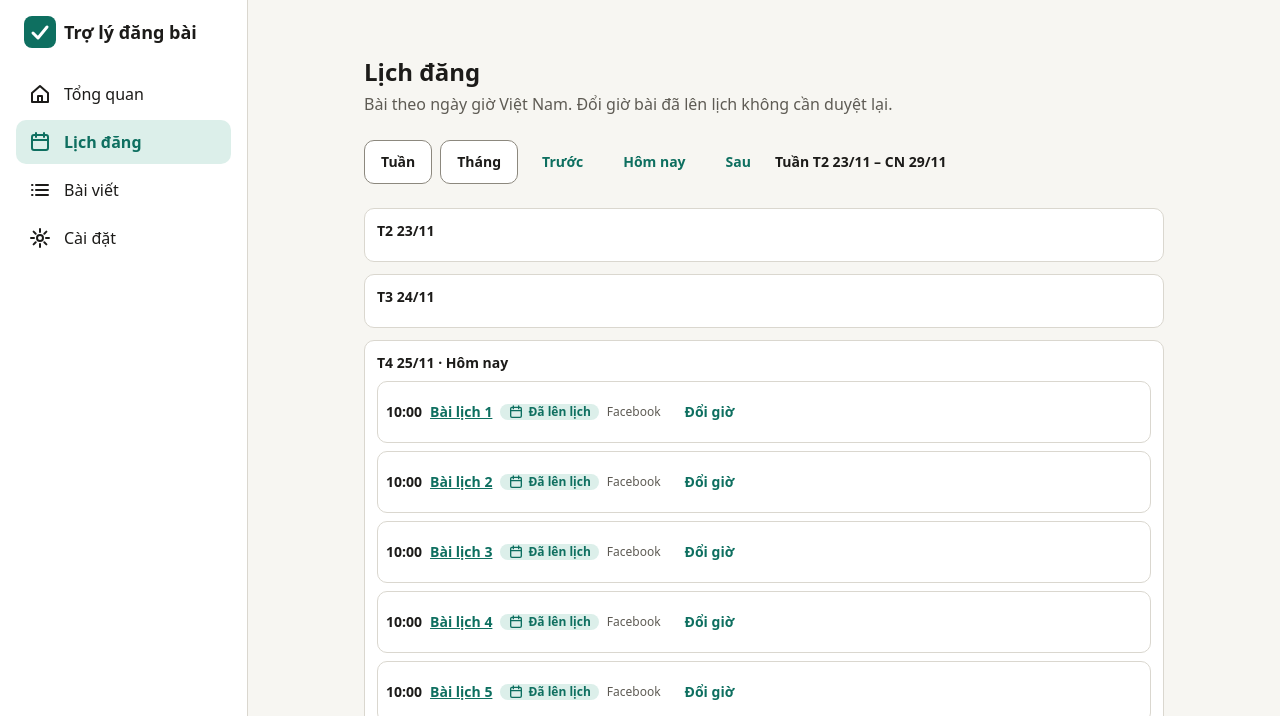
Scenario: CalendarPage › chế độ tháng: quá 3 bài trong ngày → "+N bài nữa" mở đủ danh sách
The image size is (1280, 716).
Check: the link "Bài lịch 1" is shown, box [430,402,492,422]
What coordinates should you click on to do the following:
click the button "Tháng"
I would click on:
 (479, 162)
Its box is [440,140,518,184].
(page scrolled)
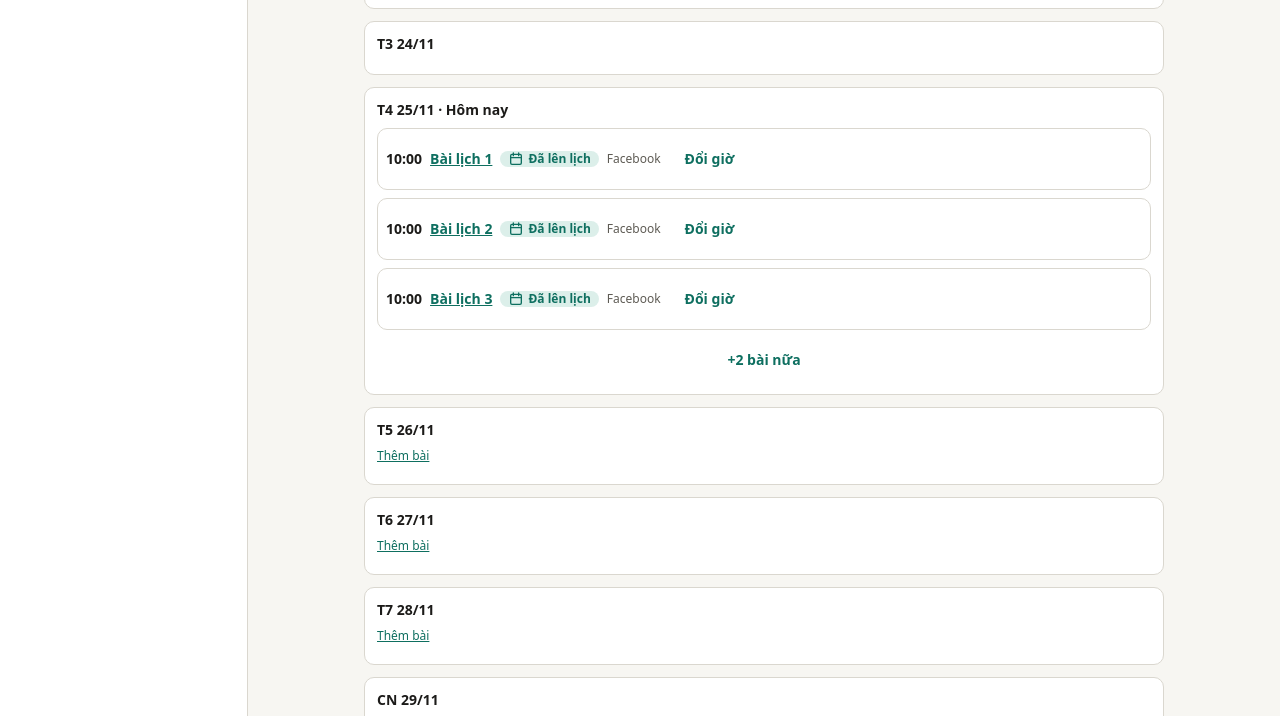
Check: the link "Bài lịch 5" is gone
What coordinates should you click on to do the following:
click the button "+2 bài nữa"
I would click on:
 (764, 360)
Its box is [377,338,1151,382].
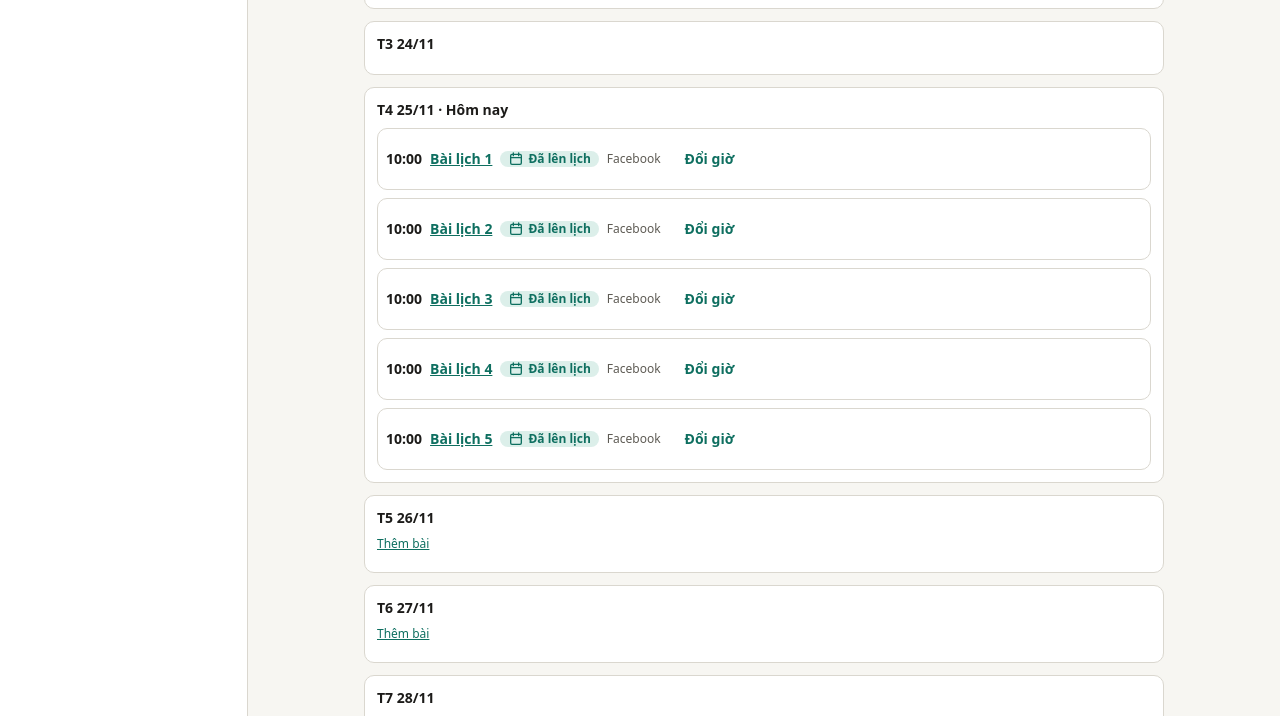
Check: the link "Bài lịch 5" is shown, box [430,429,492,449]
